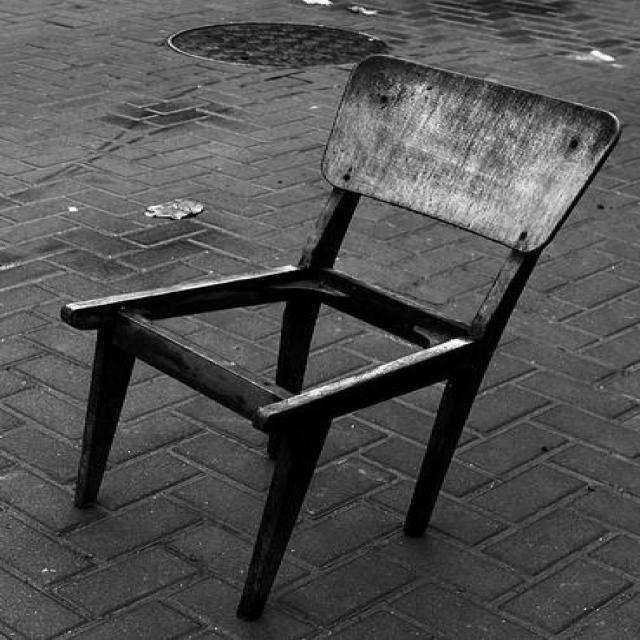chair: (57, 52, 624, 620)
